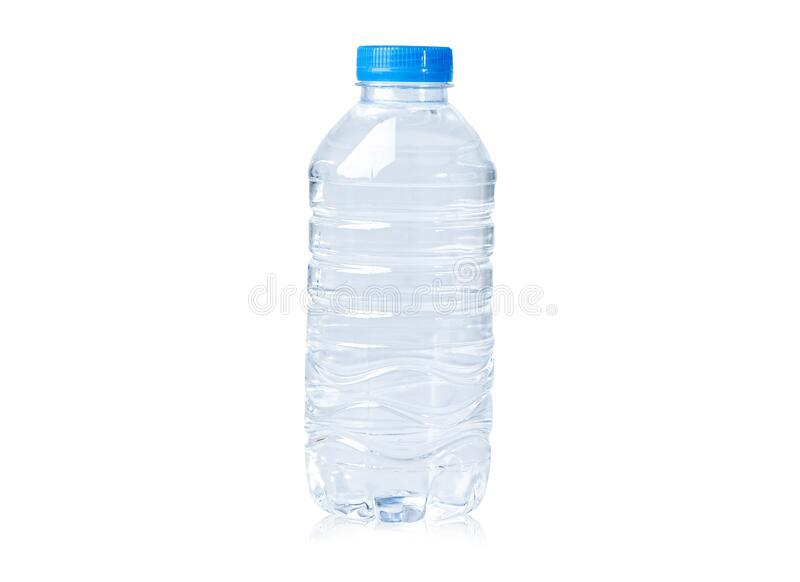plastic_bottle: (292, 42, 500, 521)
